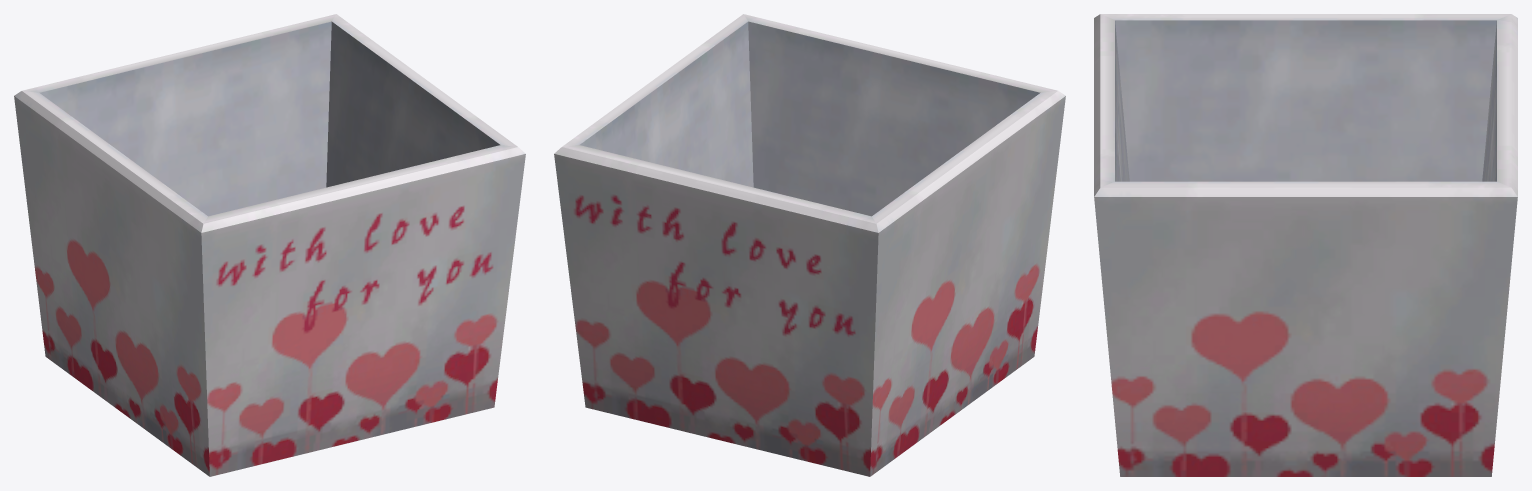
Rendered from furni_0200144.FBX.
The picture shows the model from 3 angles, left to right: view 1: azimuth 30°, elevation 25°; view 2: azimuth 150°, elevation 25°; view 3: azimuth 270°, elevation 25°; orthographic projection. The views are drawn at different scales.
Visible parts, largest first — view 1: furni_0200144; view 2: furni_0200144; view 3: furni_0200144.
Boxes of the visible parts, <box> form: furni_0200144: <box>14,14,525,476</box>; furni_0200144: <box>554,14,1065,476</box>; furni_0200144: <box>1094,14,1517,476</box>.
Bounding box in the file's own units: 39.75 × 30.81 × 39.75.
1 material, 1 textured.
